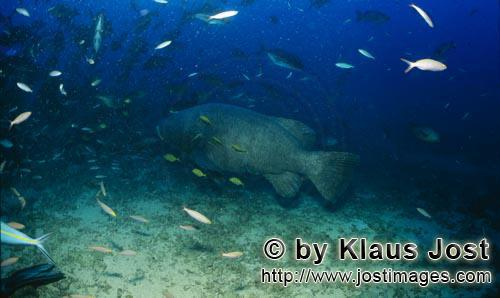Serranidae -Groupers-: (153, 96, 363, 208)
